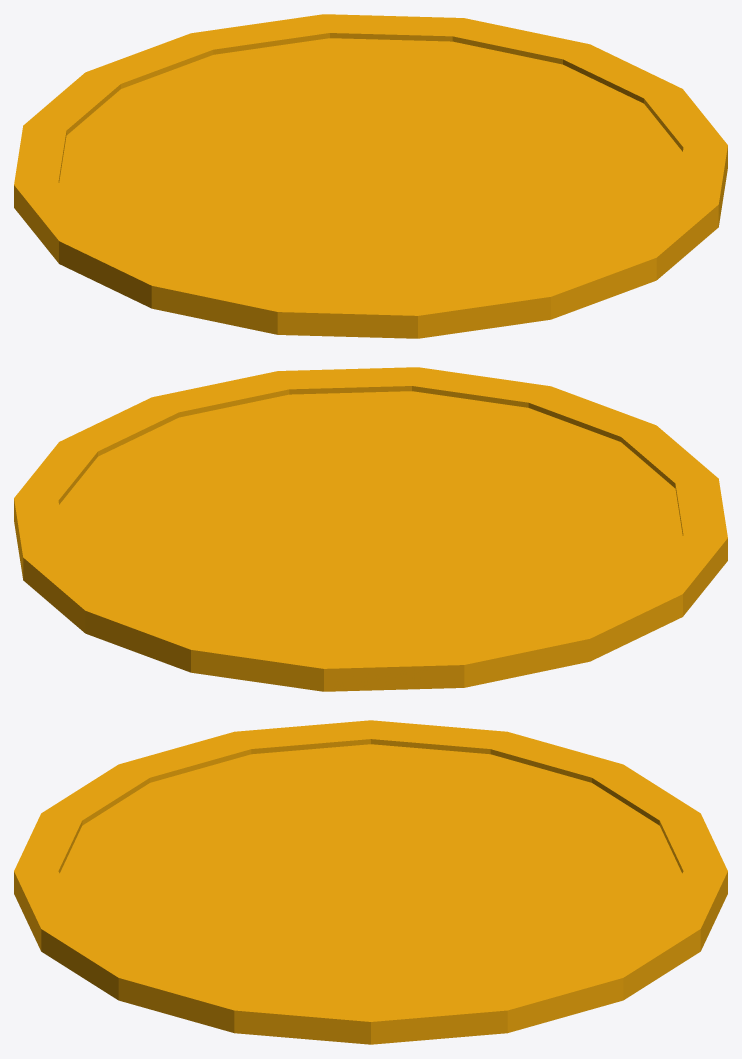
Rendered from Coin_01.fbx.
The picture shows the model from 3 angles, top to bottom: view 1: azimuth 30°, elevation 25°; view 2: azimuth 150°, elevation 25°; view 3: azimuth 270°, elevation 25°; orthographic projection.
Parts seen in each view (by area): view 1: Coin_01; view 2: Coin_01; view 3: Coin_01.
Boxes of the visible parts, x1=… form: Coin_01: x1=14, y1=14, x2=727, y2=338; Coin_01: x1=14, y1=367, x2=727, y2=691; Coin_01: x1=14, y1=720, x2=727, y2=1044.
Bounding box in the file's own units: 11.91 × 0.4178 × 11.91.
